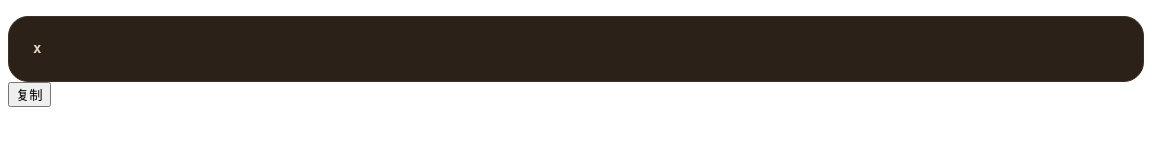
Test: CodeBlock › 复制失败时给出反馈
This screenshot has width=1152, height=160.
Click the button with aria-label "复制代码": point(29, 94) [8, 82, 51, 107]
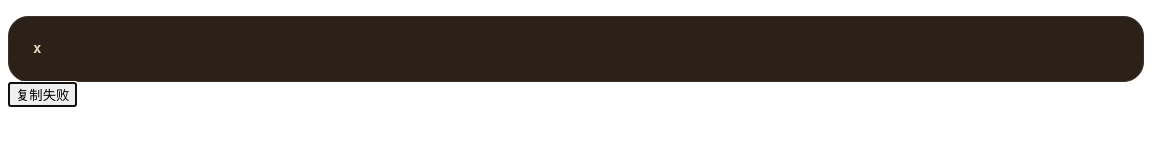
expect the button with aria-label "代码复制失败" reads "复制失败": met, box [8, 82, 77, 107]
